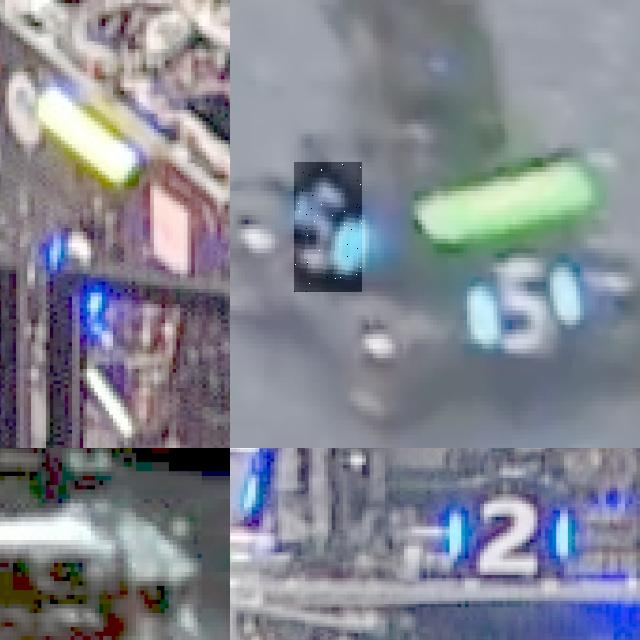B2: (446, 497, 568, 575)
B5: (471, 258, 576, 344), (294, 162, 362, 292)
